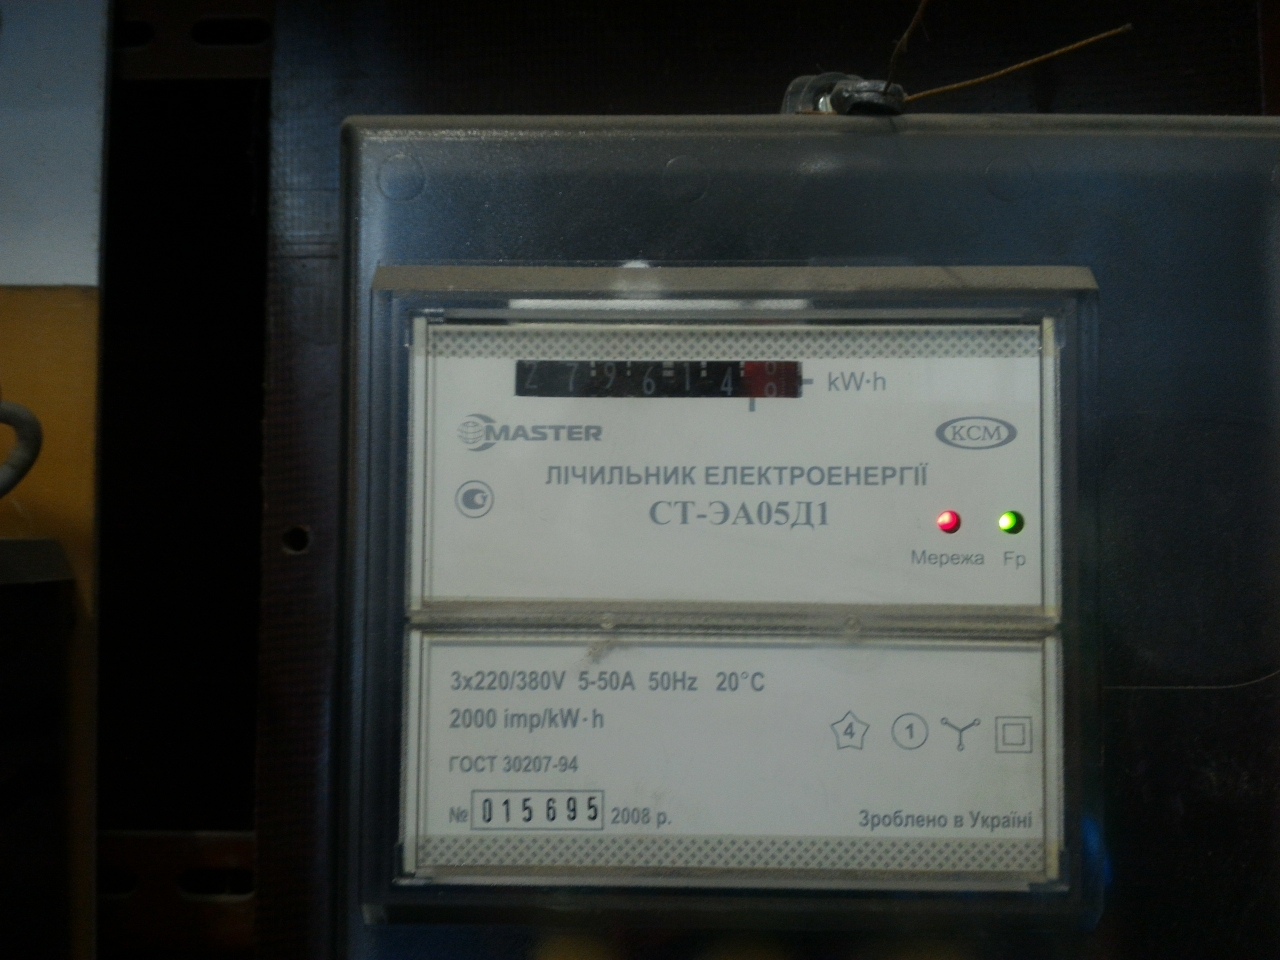1: (679, 361, 694, 393)
2: (523, 360, 540, 389)
4: (718, 364, 734, 397)
6: (640, 363, 657, 395)
7: (564, 360, 580, 394)
9: (600, 361, 618, 391)
screen: (505, 349, 817, 410)
x: (760, 378, 781, 400), (761, 360, 781, 377)
